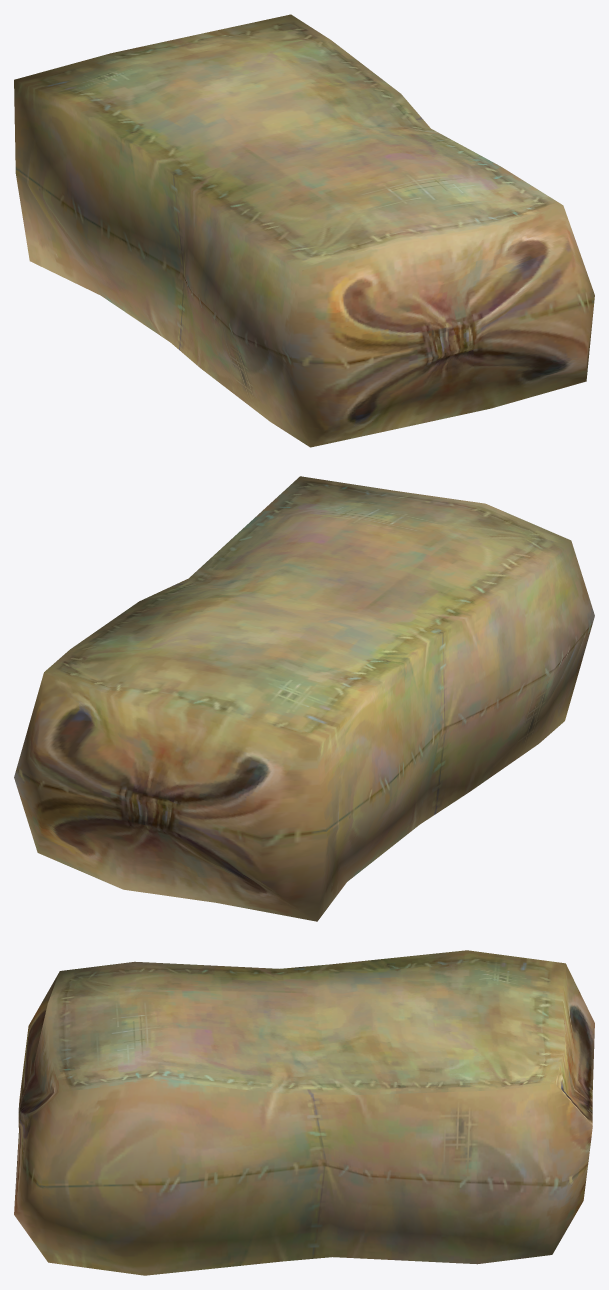
Rendered from all_item_farm_grain_container.glb.
The picture shows the model from 3 angles, top to bottom: view 1: azimuth 30°, elevation 25°; view 2: azimuth 150°, elevation 25°; view 3: azimuth 270°, elevation 25°; orthographic projection. The views are drawn at different scales.
Visible parts, largest first — view 1: all_item_farm_grain_container; view 2: all_item_farm_grain_container; view 3: all_item_farm_grain_container.
Part boxes in pixels (left/top/right/bottom): all_item_farm_grain_container: left=14, top=14, right=594, bottom=447; all_item_farm_grain_container: left=14, top=476, right=594, bottom=921; all_item_farm_grain_container: left=14, top=950, right=594, bottom=1275.
Size of the model in its own units: 0.1128 by 0.0761 by 0.1949.
1 material, 1 textured.
